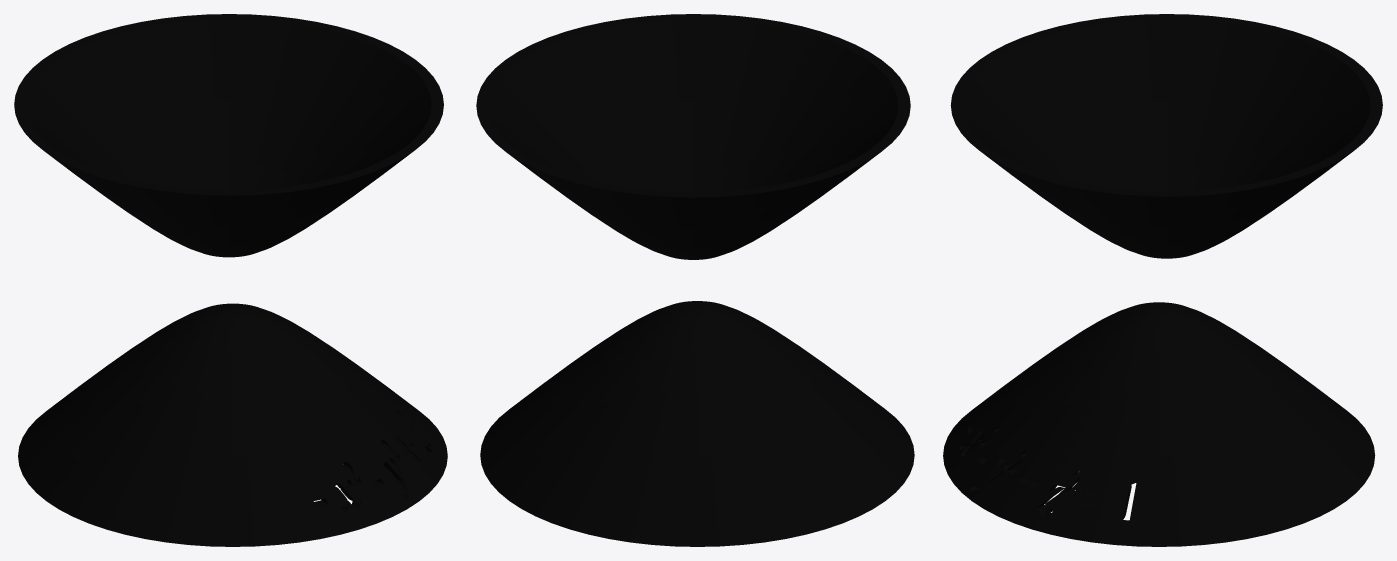
The model's file is hiperboloide 2.fbx.
The picture shows the model from 3 angles, left to right: view 1: azimuth 30°, elevation 25°; view 2: azimuth 150°, elevation 25°; view 3: azimuth 270°, elevation 25°; orthographic projection.
Visible parts, largest first — view 1: root (×2); view 2: root (×2); view 3: root (×2).
Part boxes in pixels (x1,y1,x2,y2): root (×2): [14, 14, 447, 546]; root (×2): [476, 14, 914, 546]; root (×2): [943, 14, 1382, 546].
Bounding box in the file's own units: 1.02 × 0.916 × 1.04.
Materials: 2 (2 with a texture image).
